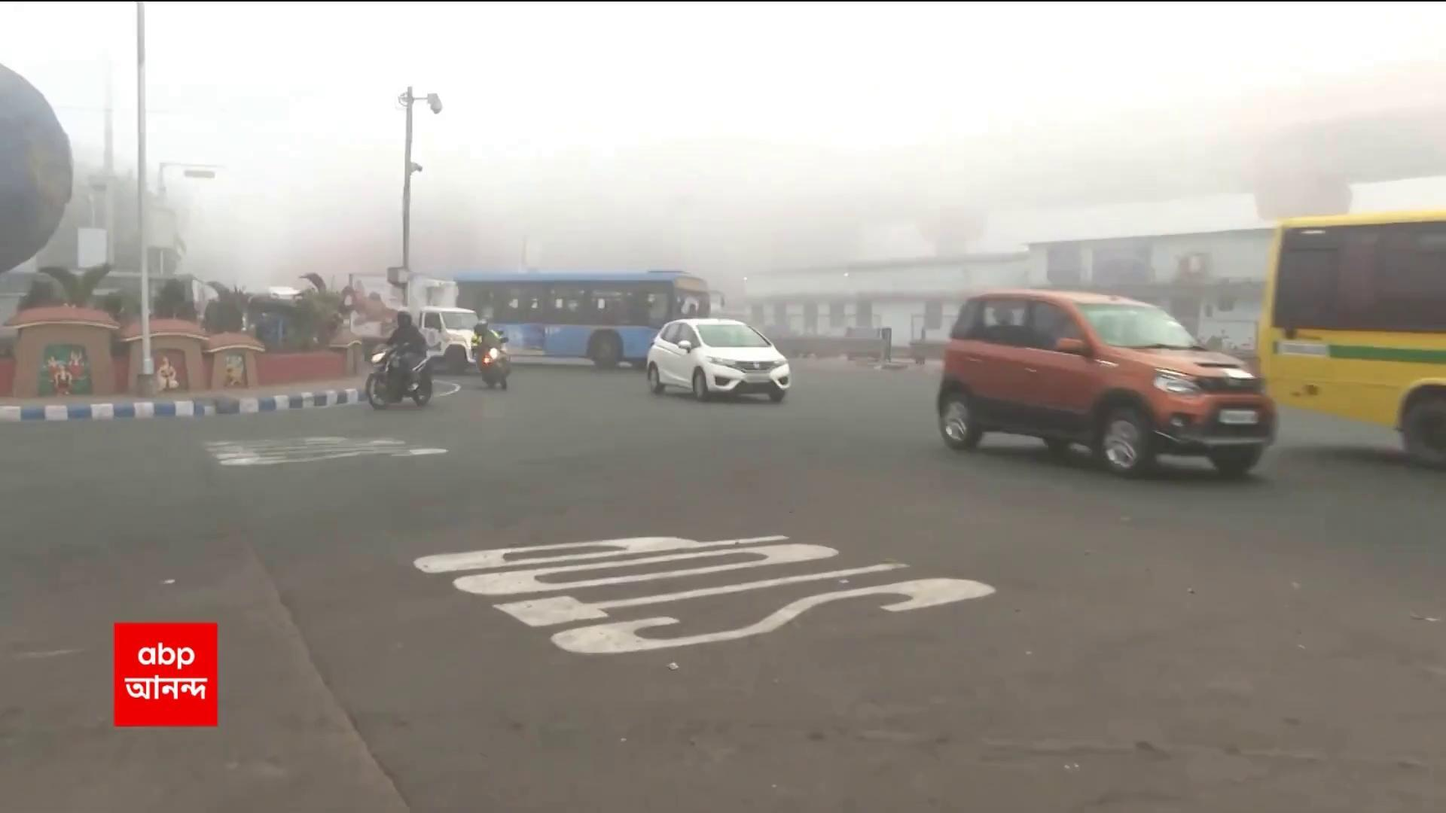Bike: (365, 306, 436, 413), (470, 318, 512, 393)
Bus: (450, 268, 714, 367)
Car: (934, 286, 1280, 473), (647, 319, 792, 402)
